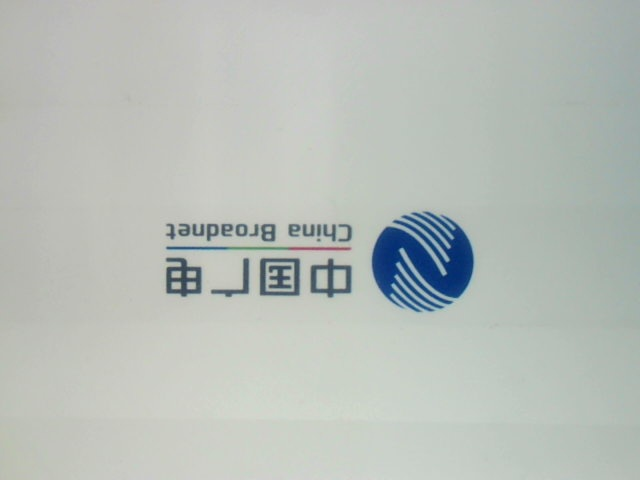AW_ChinaBroadNet: (148, 207, 476, 329)
